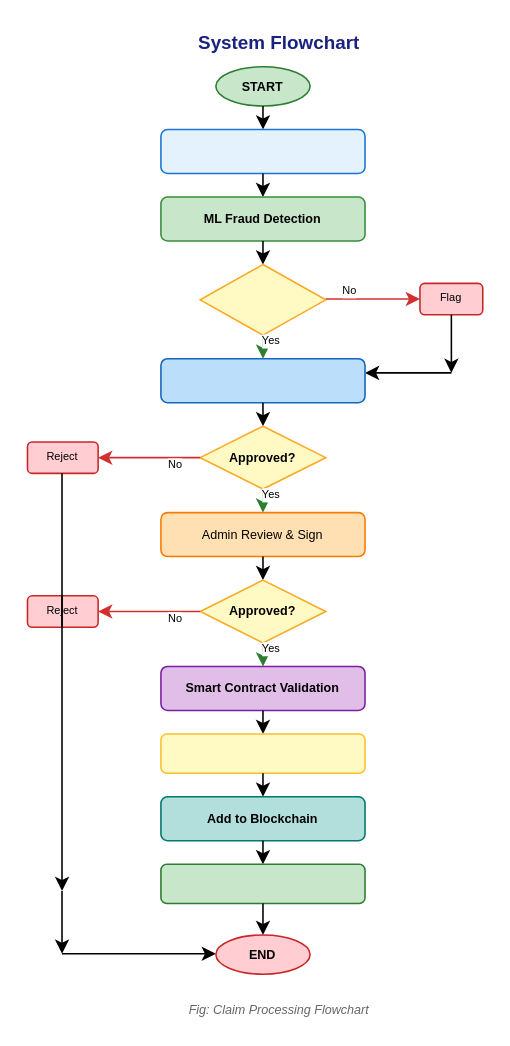
The diagram is 510 pixels wide and 1046 high, and some of its shapes have lost their labels. The shapes that lost their labels are listed below. From the top down, each one's centre as x and y in pixels, then its label:
At [262,150]: "Patient Submits Claim".
At [262,299]: "Fraud < 0.5?".
At [262,380]: "Doctor Review & Sign".
At [262,752]: "Encrypt (ECIES)".
At [262,883]: "Claim Approved".
